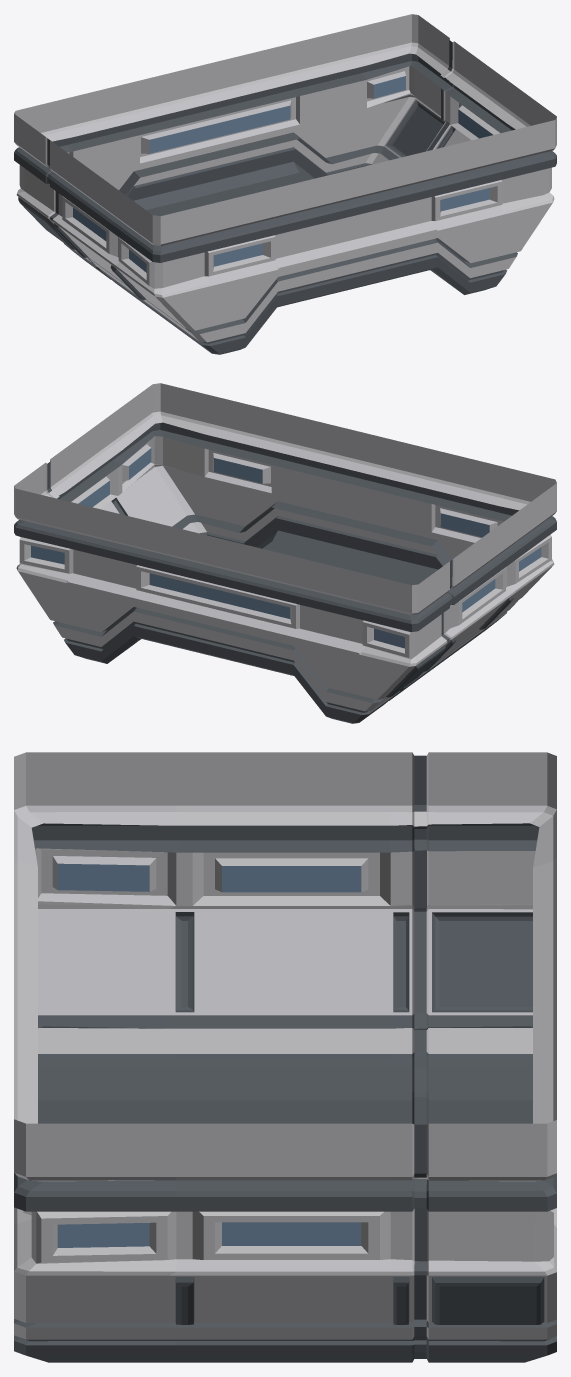
File: Dropship_05_Storage_Compartment.fbx
3 views of the same model, one above another, from view 1: azimuth 30°, elevation 25°; view 2: azimuth 150°, elevation 25°; view 3: azimuth 270°, elevation 25° (orthographic). The views are drawn at different scales.
Parts seen in each view (by area): view 1: Dropship_05_Storage_Compartment; view 2: Dropship_05_Storage_Compartment; view 3: Dropship_05_Storage_Compartment.
Boxes of the visible parts, left/top/right/bottom form: Dropship_05_Storage_Compartment: left=14, top=14, right=556, bottom=354; Dropship_05_Storage_Compartment: left=14, top=383, right=556, bottom=723; Dropship_05_Storage_Compartment: left=14, top=752, right=556, bottom=1362.
Bounding box in the file's own units: 347 × 130 × 215.
2 materials, 2 textured.
